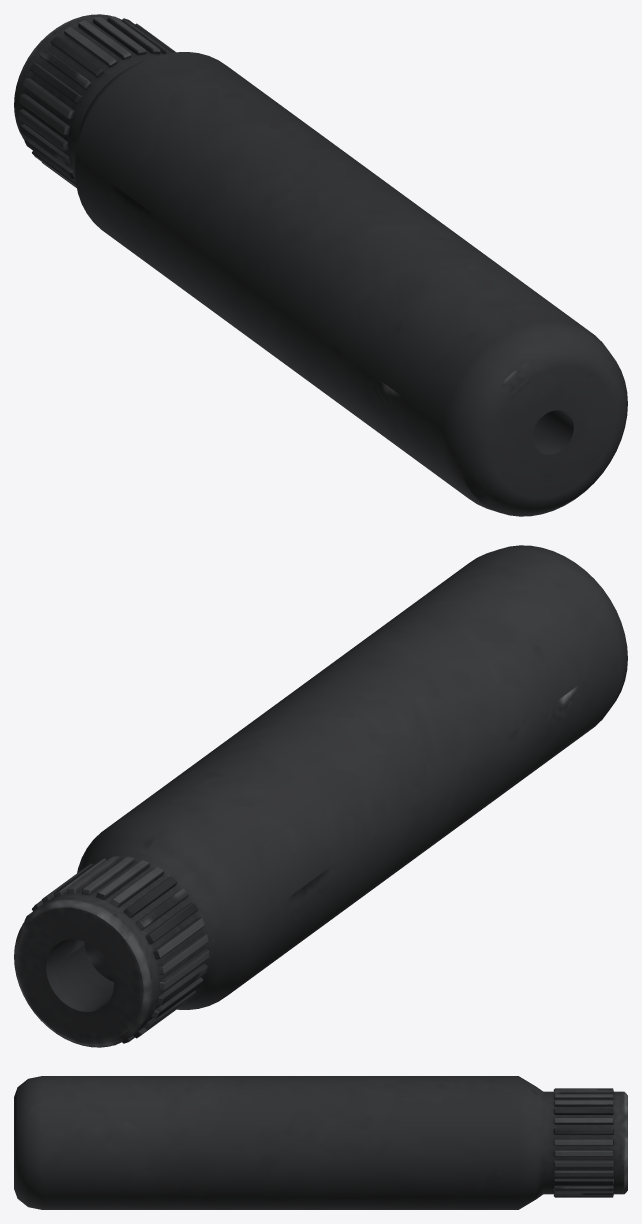
Rendered from muzzle_suppressor_ar.glb.
3 views of the same model, one above another, from view 1: azimuth 30°, elevation 25°; view 2: azimuth 150°, elevation 25°; view 3: azimuth 270°, elevation 25° (orthographic). The views are drawn at different scales.
Parts seen in each view (by area): view 1: body; view 2: body; view 3: body.
Part boxes in pixels (x1,y1,x2,y2): body: (14,14,627,516); body: (14,545,627,1047); body: (14,1076,627,1209).
Bounding box in the file's own units: 0.038 × 0.038 × 0.174.
1 material, 1 textured.
